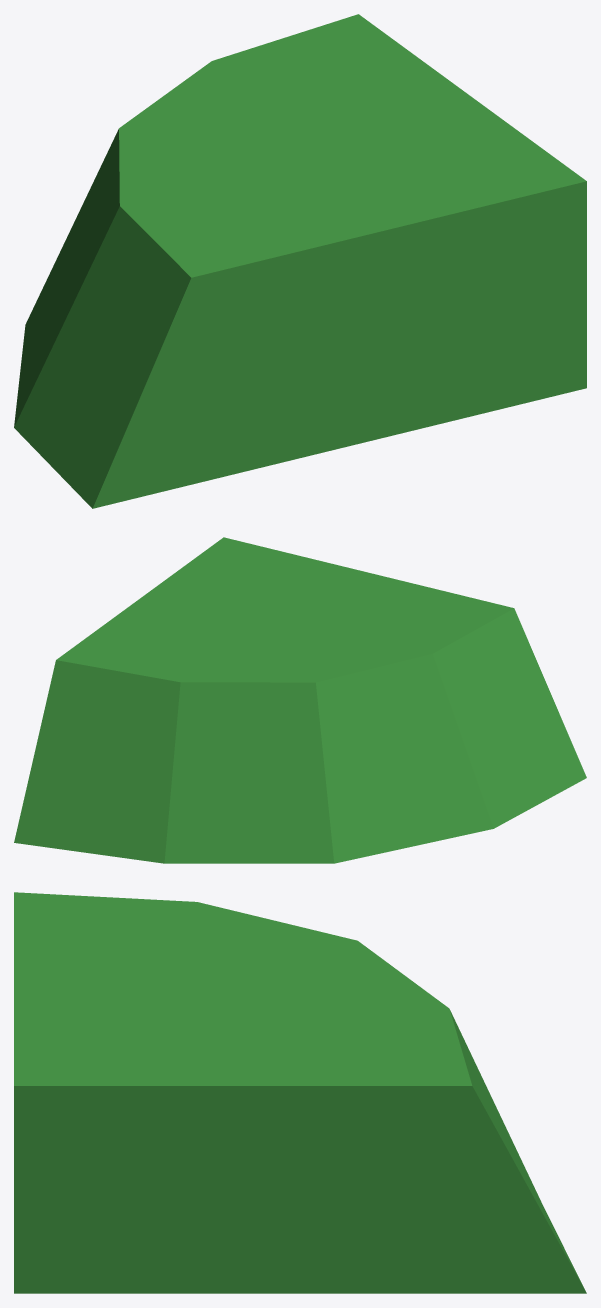
Rendered from pond_corner_convex_001.fbx.
3 renders of one model, top to bottom at view 1: azimuth 30°, elevation 25°; view 2: azimuth 150°, elevation 25°; view 3: azimuth 270°, elevation 25°, orthographic. The views are drawn at different scales.
Parts seen in each view (by area): view 1: pond.corner.convex.001; view 2: pond.corner.convex.001; view 3: pond.corner.convex.001.
Boxes of the visible parts, x1,y1,x2,y2 form: pond.corner.convex.001: [14, 14, 586, 508]; pond.corner.convex.001: [14, 537, 586, 863]; pond.corner.convex.001: [14, 892, 586, 1293].
Size of the model in its own units: 250 by 100 by 250.
